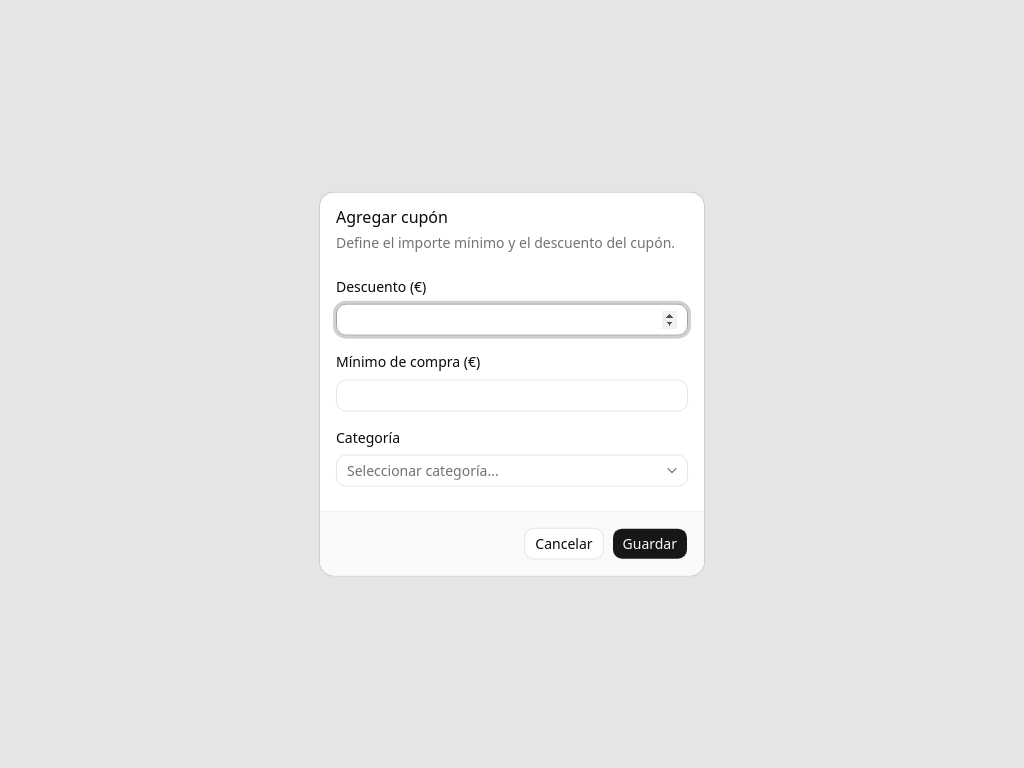
CouponFormDialog › requires a category before creating a coupon
Type "79" into the number field labelled "Mínimo de compra (€)". click: (512, 395)
box: x1=336 y1=379 x2=688 y2=411
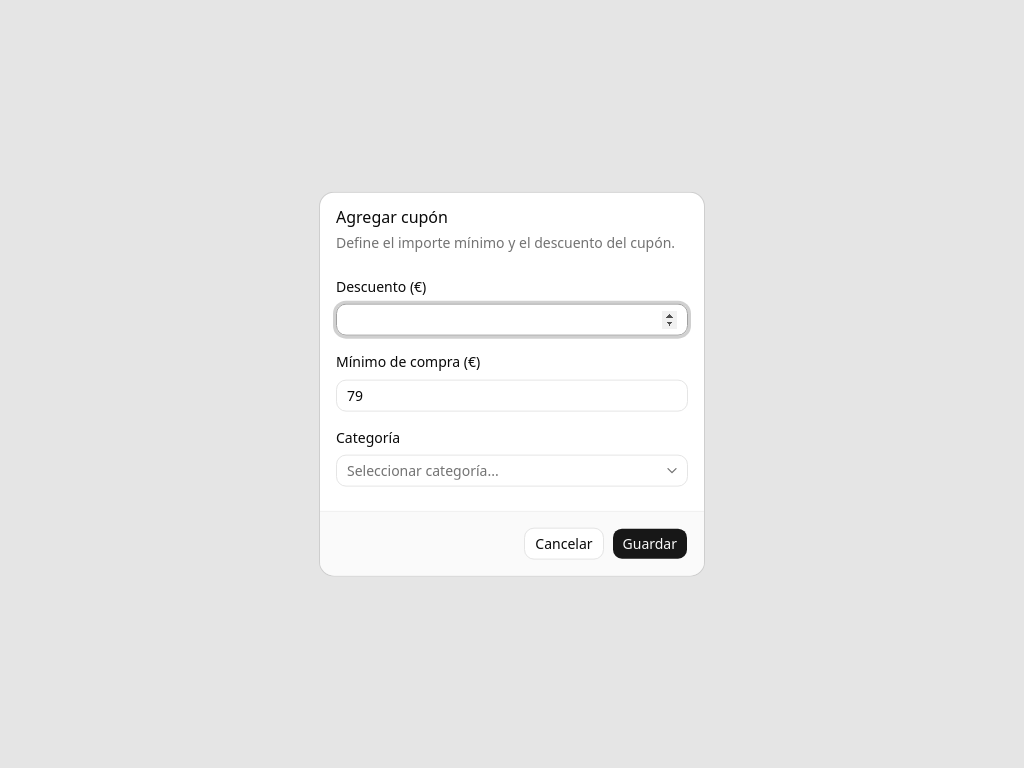
Type "10" into the number field labelled "Descuento (€)". click: (512, 320)
box: x1=336 y1=304 x2=688 y2=336
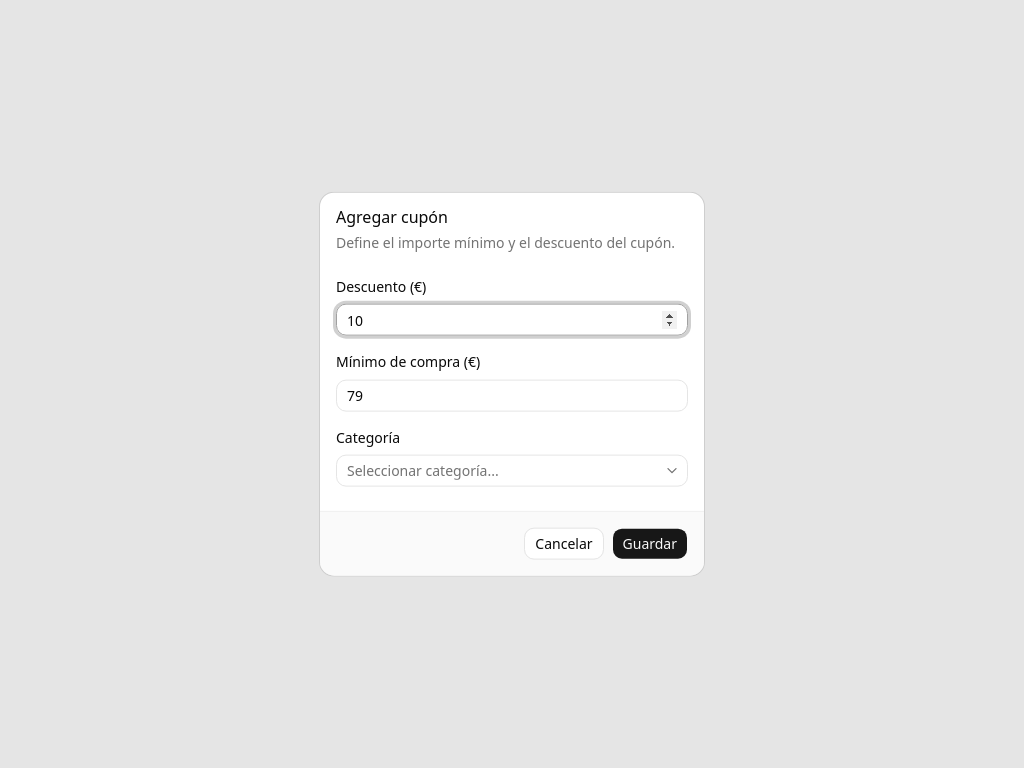
Click the button "Guardar". click: (650, 543)
box: x1=612 y1=527 x2=688 y2=559
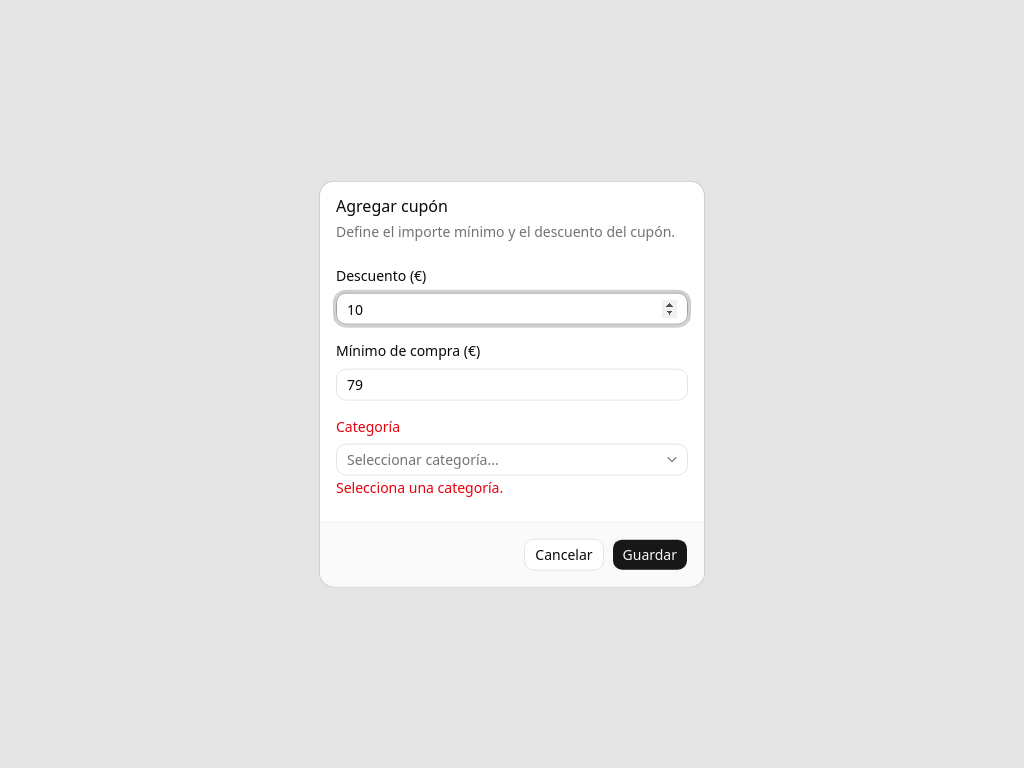
Expected: the text "Selecciona una categoría." is shown, x1=336 y1=477 x2=503 y2=496
